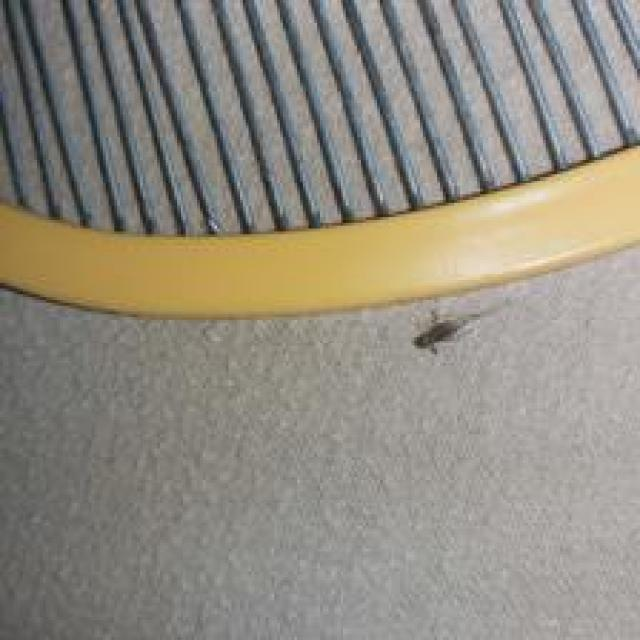Culex: (0, 0, 640, 326)
